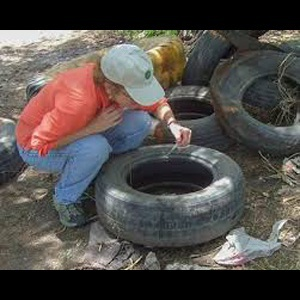tire: (95, 143, 244, 248), (210, 47, 300, 154), (113, 81, 237, 153)
